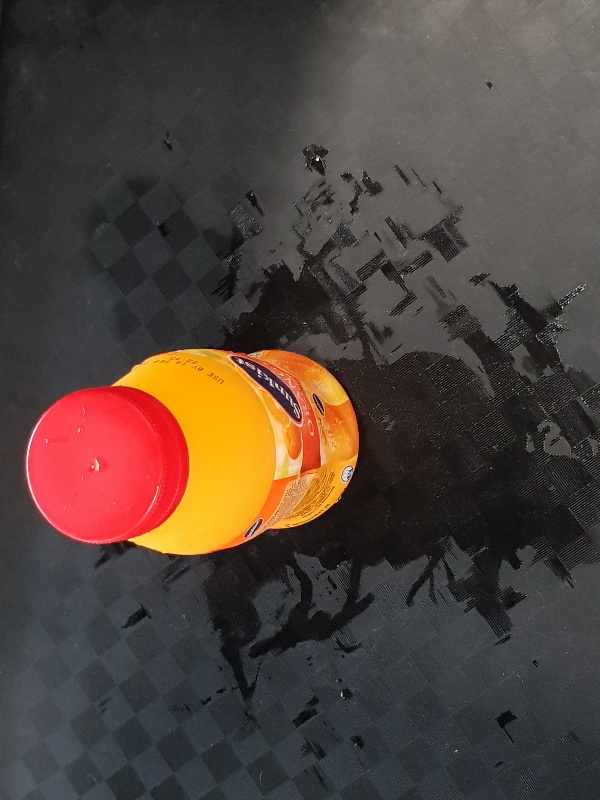Sunkist Orange Juice Drink: (23, 344, 359, 560)
